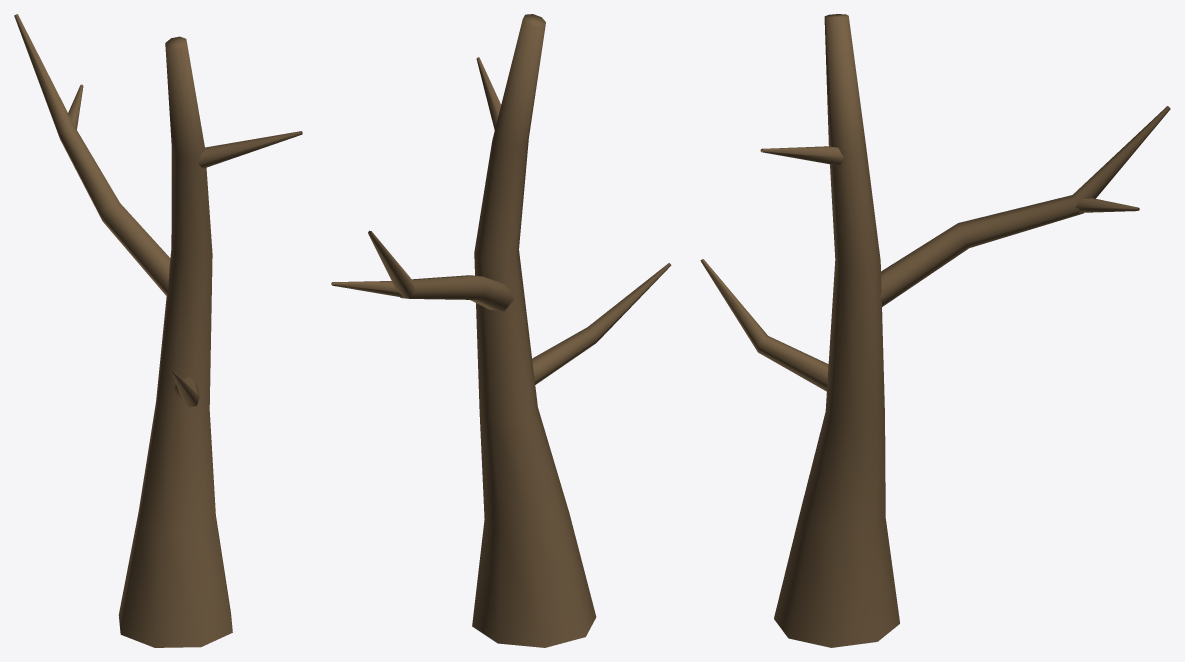
The model's file is tree ded 1.fbx.
The picture shows the model from 3 angles, left to right: view 1: azimuth 30°, elevation 25°; view 2: azimuth 150°, elevation 25°; view 3: azimuth 270°, elevation 25°; orthographic projection. The views are drawn at different scales.
Parts seen in each view (by area): view 1: Cylinder.038; view 2: Cylinder.038; view 3: Cylinder.038.
Boxes of the visible parts, x1,y1,x2,y2 form: Cylinder.038: (14,14,302,647); Cylinder.038: (331,14,671,647); Cylinder.038: (700,14,1170,647).
Size of the model in its own units: 85.93 by 301 by 211.
